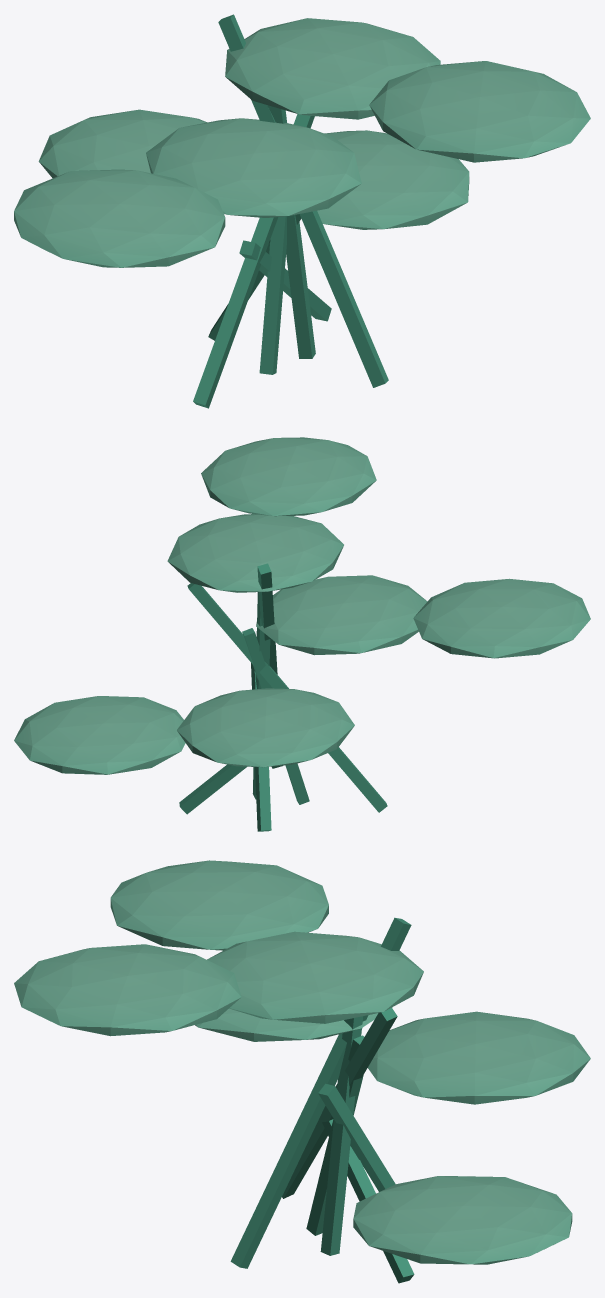
File: momordica-charantia.glb
The picture shows the model from 3 angles, top to bottom: view 1: azimuth 30°, elevation 25°; view 2: azimuth 150°, elevation 25°; view 3: azimuth 270°, elevation 25°; orthographic projection. The views are drawn at different scales.
Parts seen in each view (by area): view 1: leaf4, leaf5, leaf1, leaf0, leaf3, leaf2, runner4, runner5, runner0, runner1, runner3; view 2: leaf5, leaf2, leaf4, leaf3, leaf0, leaf1, runner5, runner1, runner4, runner2, runner3, runner0; view 3: leaf4, leaf3, leaf2, leaf5, leaf0, runner4, runner0, leaf1, runner5, runner2, runner1, runner3.
Boxes of the visible parts, <box> form: leaf4: <box>369,61,590,162</box>; leaf5: <box>14,169,225,267</box>; leaf1: <box>146,118,361,217</box>; leaf0: <box>225,18,440,119</box>; leaf3: <box>317,130,469,229</box>; leaf2: <box>38,109,207,178</box>; runner4: <box>218,14,388,387</box>; runner5: <box>193,114,314,408</box>; runner0: <box>267,105,315,358</box>; runner1: <box>259,216,286,374</box>; runner3: <box>239,240,331,321</box>; leaf5: <box>413,578,590,658</box>; leaf2: <box>177,688,354,767</box>; leaf4: <box>201,437,376,516</box>; leaf3: <box>14,696,185,774</box>; leaf0: <box>167,514,343,592</box>; leaf1: <box>256,575,427,655</box>; runner5: <box>187,583,387,812</box>; runner1: <box>242,628,309,804</box>; runner4: <box>257,563,282,768</box>; runner2: <box>251,663,271,831</box>; runner3: <box>179,764,246,814</box>; runner0: <box>252,592,270,799</box>; leaf4: <box>14,944,241,1036</box>; leaf3: <box>353,1176,572,1264</box>; leaf2: <box>368,1011,590,1104</box>; leaf5: <box>110,860,328,950</box>; leaf0: <box>207,931,423,1023</box>; runner4: <box>230,917,411,1268</box>; runner0: <box>320,1016,363,1255</box>; leaf1: <box>195,1007,392,1041</box>; runner5: <box>282,1007,397,1198</box>; runner2: <box>318,1083,395,1191</box>; runner1: <box>306,1035,364,1235</box>; runner3: <box>322,1119,414,1283</box>.
Size of the model in its own units: 0.5952 by 0.3359 by 0.5506.
